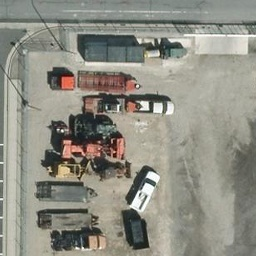car: (132, 167, 159, 214), (133, 97, 176, 117)
